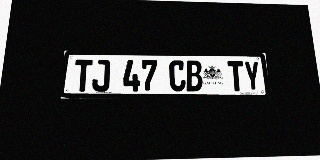4: (123, 60, 140, 91)
7: (140, 60, 157, 91)
B: (186, 60, 203, 91)
C: (169, 60, 186, 91)
J: (92, 60, 110, 92)
T: (73, 59, 93, 92), (227, 61, 245, 91)
Y: (243, 61, 261, 91)
